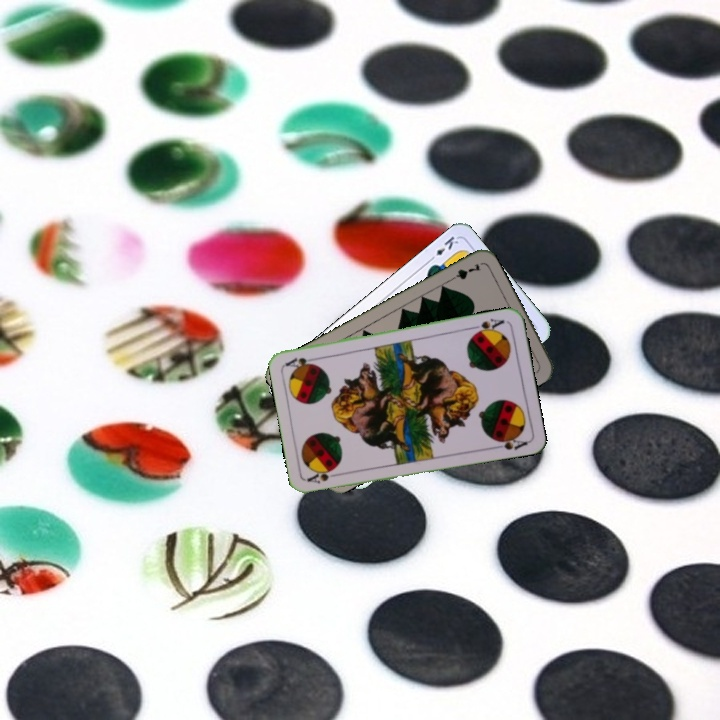EK: (425, 232, 461, 264)
G7: (444, 259, 483, 285)
SA: (468, 314, 507, 337), (303, 465, 344, 486)
